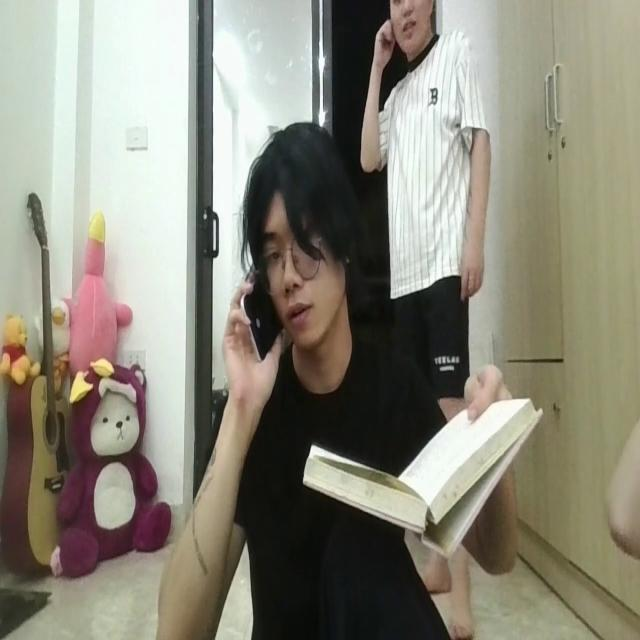book: (299, 389, 546, 558)
extra_person: (358, 0, 492, 405)
phone: (244, 260, 280, 363)
student: (156, 122, 516, 640)
